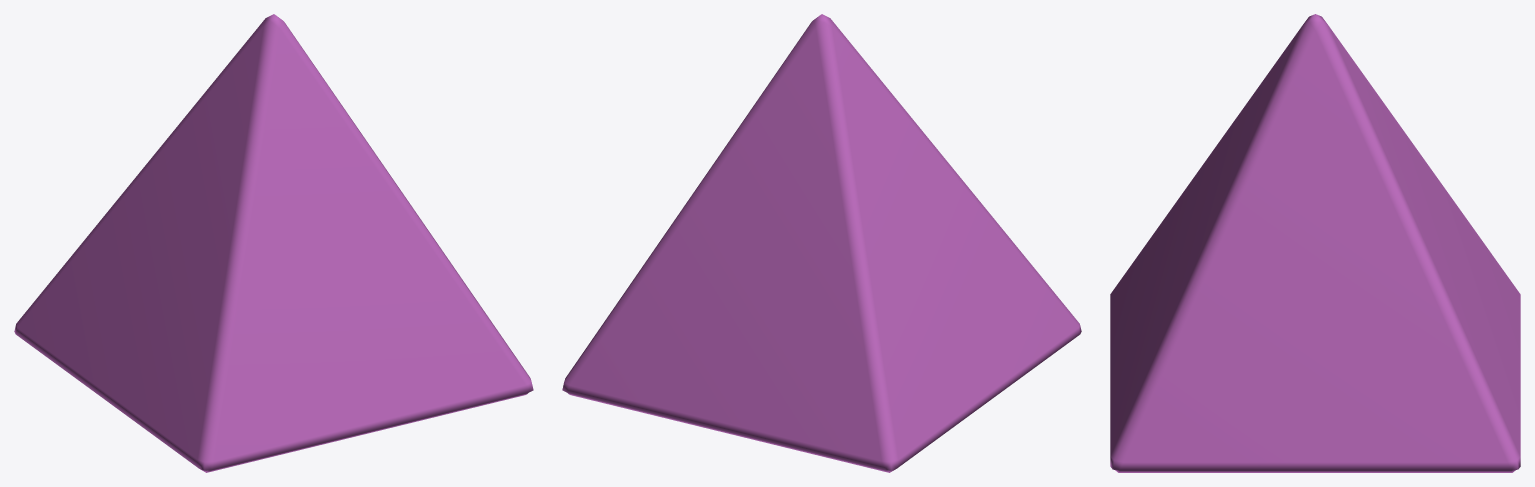
Rendered from TrineAngle.fbx.
3 renders of one model, left to right at view 1: azimuth 30°, elevation 25°; view 2: azimuth 150°, elevation 25°; view 3: azimuth 270°, elevation 25°, orthographic. The views are drawn at different scales.
Visible parts, largest first — view 1: TrineAngle; view 2: TrineAngle; view 3: TrineAngle.
Boxes of the visible parts, x1,y1,x2,y2 form: TrineAngle: [14, 14, 533, 472]; TrineAngle: [562, 14, 1081, 472]; TrineAngle: [1110, 14, 1520, 472].
Bounding box in the file's own units: 0.409 × 0.4133 × 0.409.
